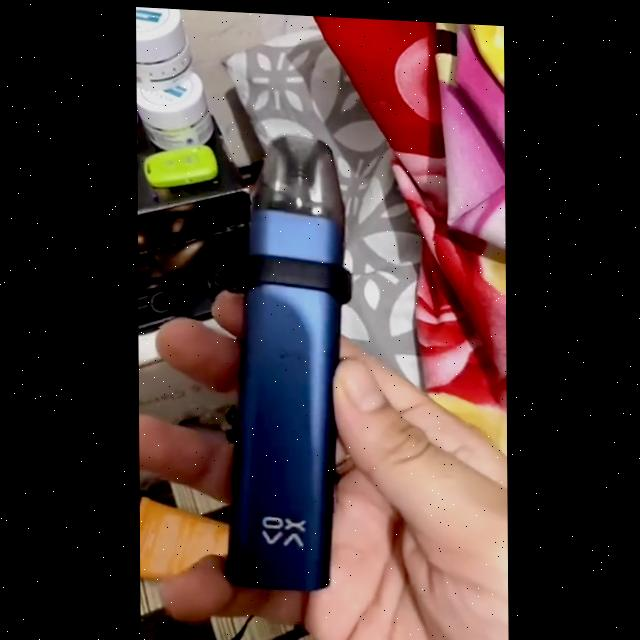vape: (221, 127, 349, 592)
